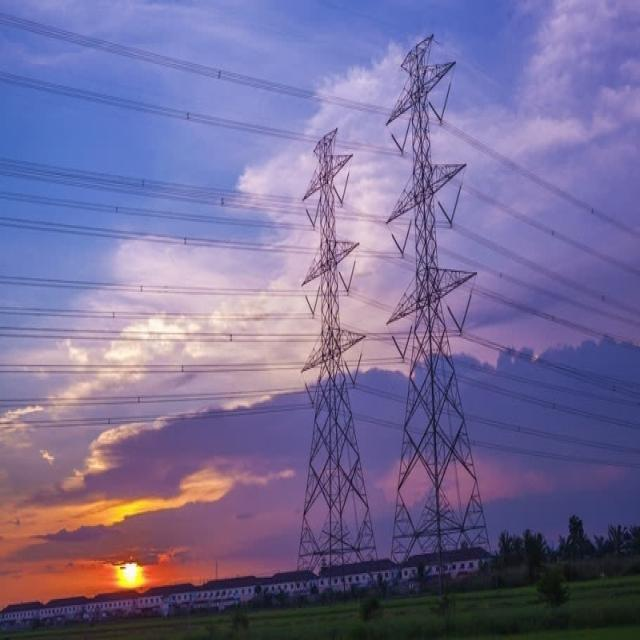non-critical vegetation: (380, 24, 493, 570), (278, 99, 384, 586)
